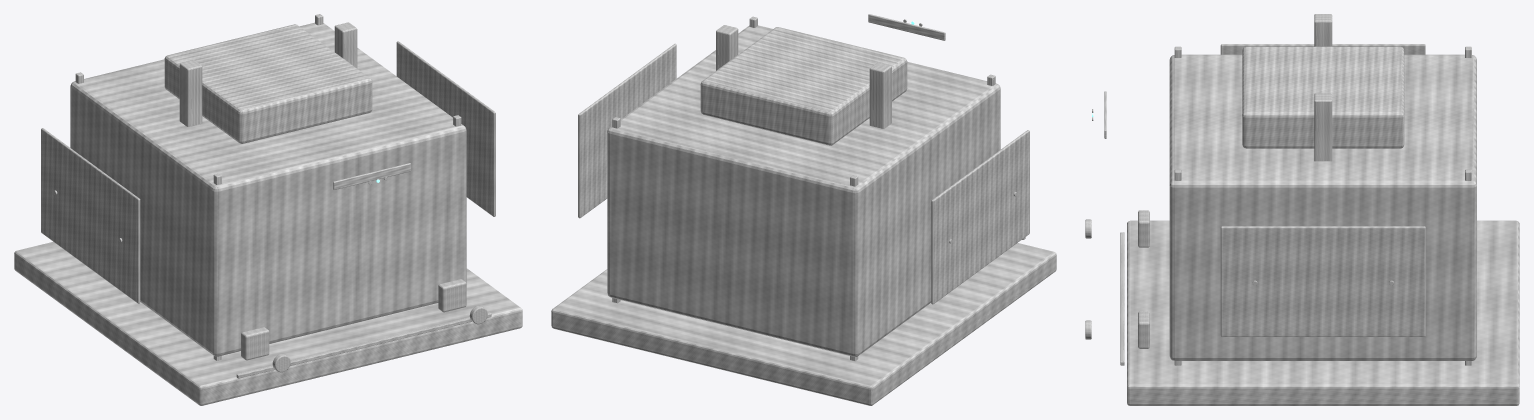
The model's file is miner_variant_a.glb.
The picture shows the model from 3 angles, left to right: view 1: azimuth 30°, elevation 25°; view 2: azimuth 150°, elevation 25°; view 3: azimuth 270°, elevation 25°; orthographic projection. The views are drawn at different scales.
Parts seen in each view (by area): view 1: Miner chassis, Foundation skid, Drill head housing, Side access panel, Side access panel.001, Lift column, Amber safety sill.001, Lift column.001, Input output port.001, Input output port, Status panel; view 2: Miner chassis, Foundation skid, Drill head housing, Side access panel, Side access panel.001, Lift column, Lift column.001, Status panel; view 3: Miner chassis, Foundation skid, Side access panel.001, Drill head housing, Lift column.001, Side access panel, Amber safety sill.001, Lift column, Input output port, Input output port.001.
Part boxes in pixels (x1,y1,x2,y2): Miner chassis: (70,22,466,356); Foundation skid: (14,241,522,405); Drill head housing: (164,24,372,143); Side access panel: (41,128,140,303); Side access panel.001: (396,41,495,216); Lift column: (179,60,202,126); Amber safety sill.001: (236,312,491,378); Lift column.001: (334,22,357,68); Input output port.001: (438,279,466,312); Input output port: (241,327,269,360); Status panel: (333,163,410,189); Miner chassis: (607,25,1000,356); Foundation skid: (551,243,1056,405); Drill head housing: (700,27,907,145); Side access panel: (931,130,1029,304); Side access panel.001: (578,43,676,218); Lift column: (869,62,891,128); Lift column.001: (716,25,738,70); Status panel: (868,14,945,40); Miner chassis: (1169,54,1476,360); Foundation skid: (1127,220,1519,405); Side access panel.001: (1220,226,1425,336); Drill head housing: (1242,46,1404,148); Lift column.001: (1314,93,1332,161); Side access panel: (1220,44,1425,54); Amber safety sill.001: (1120,232,1124,365); Lift column: (1314,14,1332,46); Input output port: (1138,210,1149,247); Input output port.001: (1138,311,1149,348).
Size of what is drawn, in the model's own units: 8.24 by 5.52 by 8.14.
6 materials, 6 textured.
